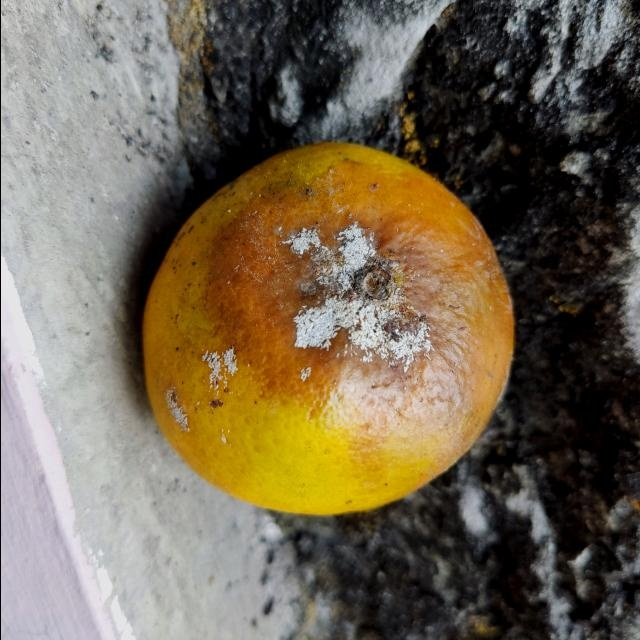agrume: (140, 141, 515, 516)
